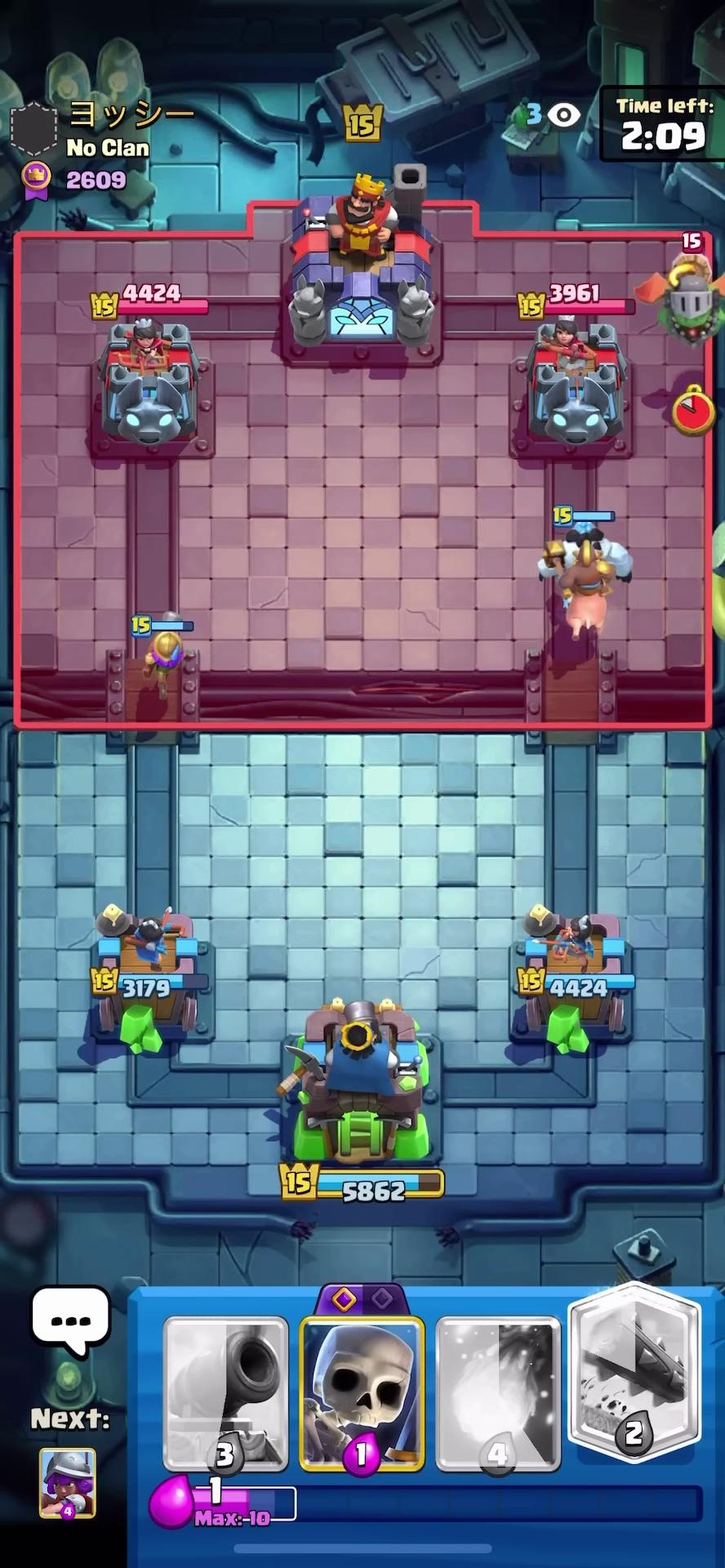hog_rider: (539, 531, 616, 657)
ice_golem: (525, 519, 639, 590)
musketeer: (137, 612, 196, 684)
